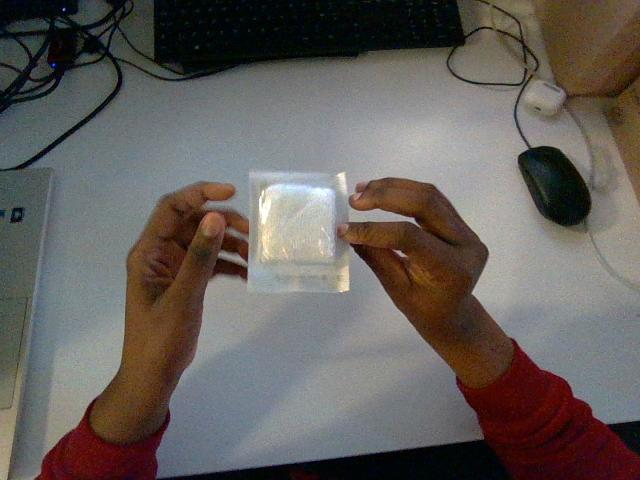gauze: (248, 171, 348, 291)
